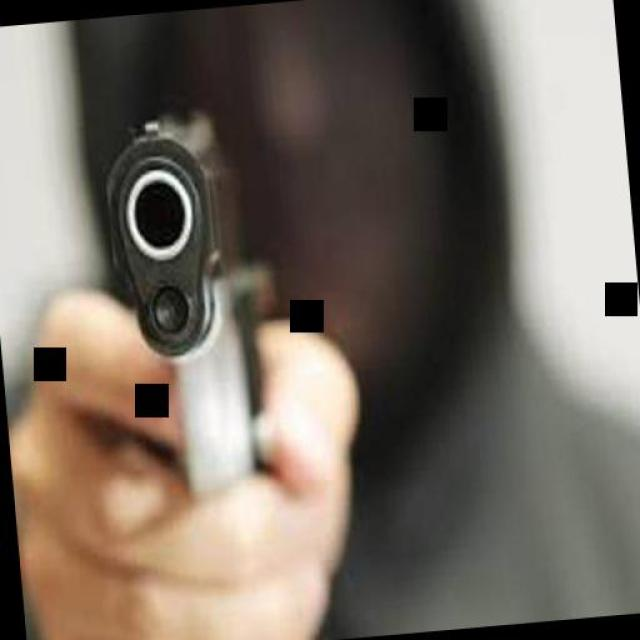gun: (99, 94, 301, 508)
